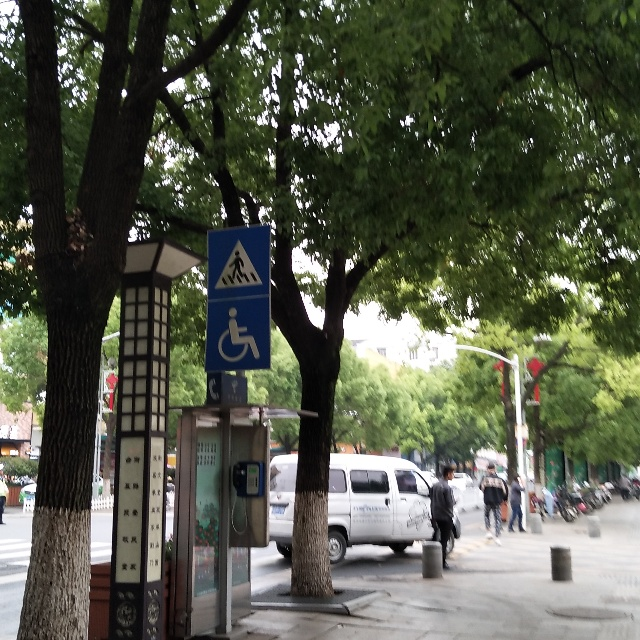crosswalk: (215, 232, 264, 291)
